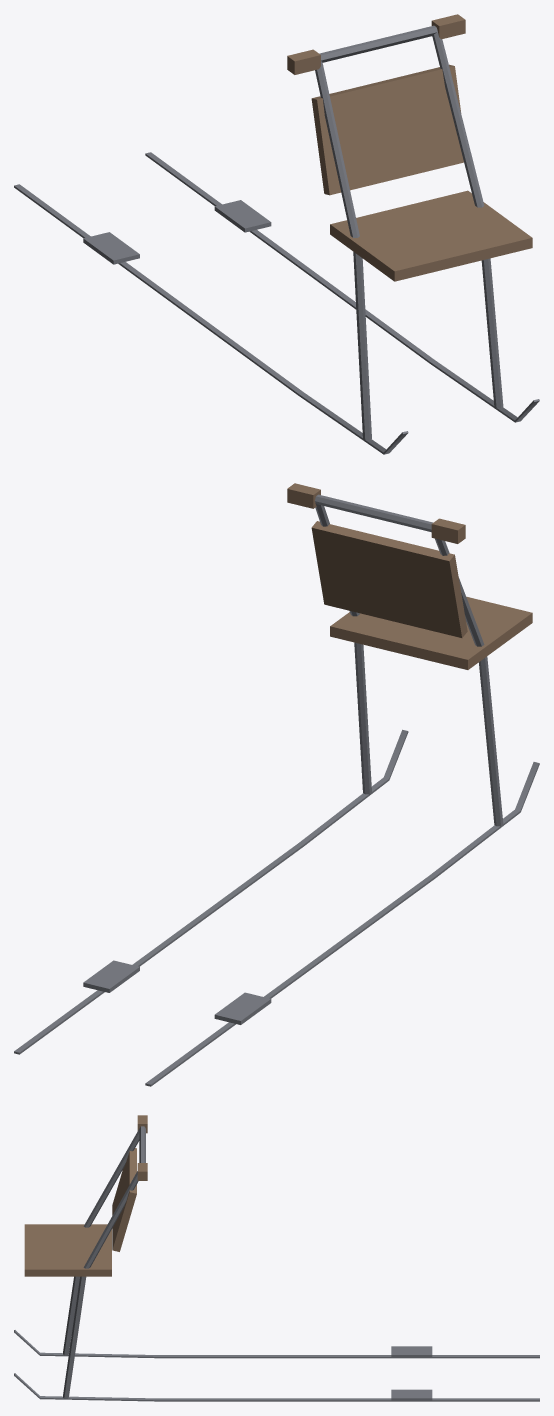
Rendered from kick_sled.glb.
3 renders of one model, top to bottom at view 1: azimuth 30°, elevation 25°; view 2: azimuth 150°, elevation 25°; view 3: azimuth 270°, elevation 25°, orthographic. The views are drawn at different scales.
Parts seen in each view (by area): view 1: seat, kick_sled; view 2: seat, kick_sled; view 3: kick_sled, seat.
Boxes of the visible parts, x1=… form: seat: x1=287, y1=14, x2=532, y2=281; kick_sled: x1=14, y1=25, x2=539, y2=454; seat: x1=287, y1=483, x2=532, y2=669; kick_sled: x1=14, y1=494, x2=539, y2=1086; kick_sled: x1=14, y1=1126, x2=539, y2=1401; seat: x1=24, y1=1115, x2=147, y2=1276.
Size of the model in its own units: 0.52 by 1.01 by 2.05.
